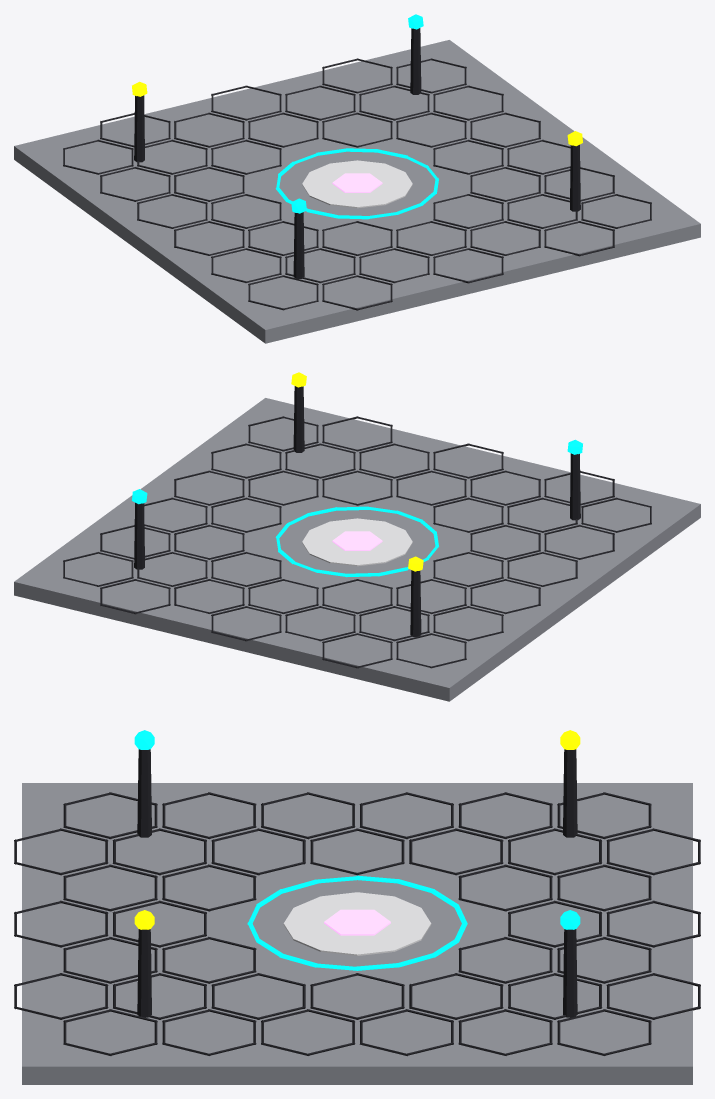
Rendered from Tile_Plaza.fbx.
3 views of the same model, one above another, from view 1: azimuth 30°, elevation 25°; view 2: azimuth 150°, elevation 25°; view 3: azimuth 270°, elevation 25° (orthographic). The views are drawn at different scales.
Parts seen in each view (by area): view 1: Plaza_Slab, Plaza_CenterDisc, Plaza_CenterRing, Plaza_CenterEmblem, Plaza_Lamp1, Plaza_Lamp3, Plaza_Lamp0, Plaza_Lamp2; view 2: Plaza_Slab, Plaza_CenterDisc, Plaza_CenterRing, Plaza_CenterEmblem, Plaza_Lamp0, Plaza_Lamp2, Plaza_Lamp3, Plaza_Lamp1; view 3: Plaza_Slab, Plaza_CenterDisc, Plaza_CenterRing, Plaza_CenterEmblem, Plaza_Lamp0, Plaza_Lamp3, Plaza_Lamp1, Plaza_Lamp2, Plaza_Hex-1_-2, Plaza_Hex-1_3, Plaza_Hex-2_1, Plaza_Hex2_-1 (+34 smaller).
Boxes of the visible parts, x1=… form: Plaza_Slab: x1=14, y1=40, x2=700, y2=343; Plaza_CenterDisc: x1=302, y1=160, x2=412, y2=208; Plaza_CenterRing: x1=275, y1=148, x2=438, y2=219; Plaza_CenterEmblem: x1=332, y1=173, x2=382, y2=192; Plaza_Lamp1: x1=134, y1=95, x2=144, y2=162; Plaza_Lamp3: x1=570, y1=144, x2=580, y2=211; Plaza_Lamp0: x1=410, y1=28, x2=421, y2=94; Plaza_Lamp2: x1=293, y1=212, x2=304, y2=278; Plaza_Slab: x1=14, y1=398, x2=700, y2=701; Plaza_CenterDisc: x1=302, y1=518, x2=412, y2=566; Plaza_CenterRing: x1=275, y1=506, x2=438, y2=577; Plaza_CenterEmblem: x1=332, y1=531, x2=382, y2=550; Plaza_Lamp0: x1=134, y1=502, x2=144, y2=569; Plaza_Lamp2: x1=570, y1=453, x2=580, y2=520; Plaza_Lamp3: x1=293, y1=386, x2=304, y2=452; Plaza_Lamp1: x1=410, y1=570, x2=421, y2=636; Plaza_Slab: x1=22, y1=783, x2=692, y2=1084; Plaza_CenterDisc: x1=283, y1=892, x2=431, y2=955; Plaza_CenterRing: x1=247, y1=875, x2=467, y2=970; Plaza_CenterEmblem: x1=324, y1=909, x2=390, y2=935; Plaza_Lamp0: x1=563, y1=929, x2=577, y2=1017; Plaza_Lamp3: x1=137, y1=929, x2=151, y2=1017; Plaza_Lamp1: x1=563, y1=749, x2=577, y2=837; Plaza_Lamp2: x1=137, y1=749, x2=151, y2=837; Plaza_Hex-1_-2: x1=63, y1=864, x2=157, y2=911; Plaza_Hex-1_3: x1=557, y1=864, x2=651, y2=911; Plaza_Hex-2_1: x1=310, y1=828, x2=404, y2=875; Plaza_Hex2_-1: x1=310, y1=973, x2=404, y2=1019.
Size of the model in its own units: 2 by 0.405 by 2.05.
